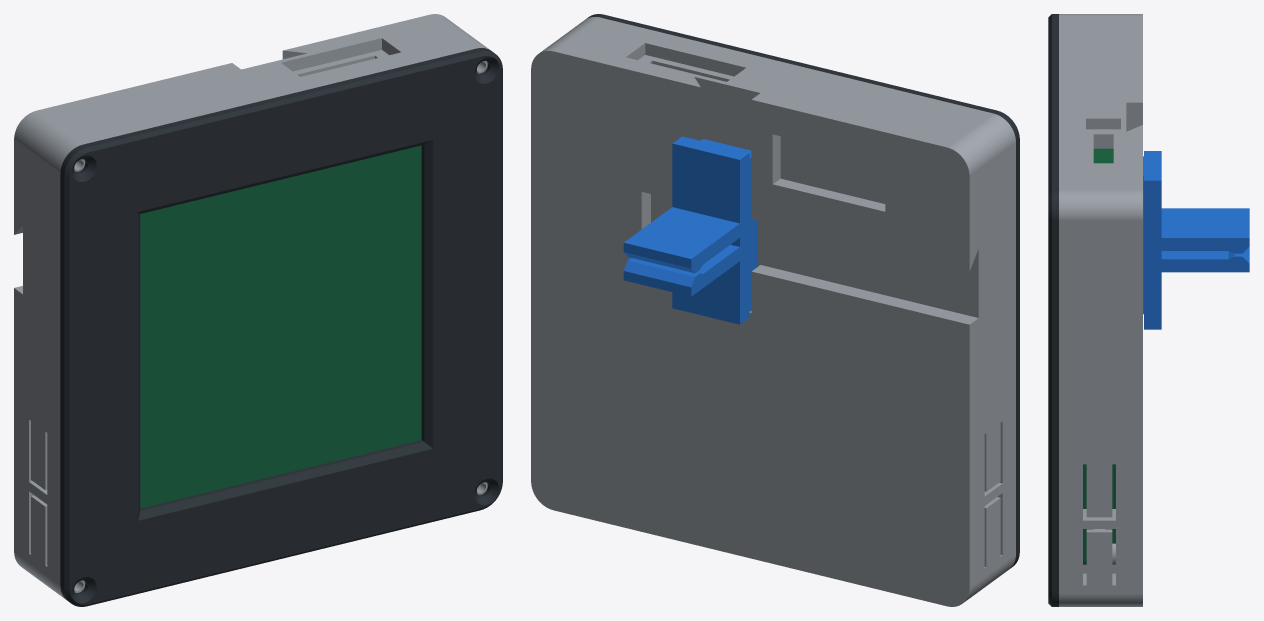
File: assembly.glb
3 views of the same model, side by side, from view 1: azimuth 30°, elevation 25°; view 2: azimuth 150°, elevation 25°; view 3: azimuth 270°, elevation 25° (orthographic). The views are drawn at different scales.
Visible parts, largest first — view 1: front_bezel, board_dummy, body; view 2: body, vent_clip, front_bezel; view 3: body, vent_clip, front_bezel, board_dummy.
Boxes of the visible parts, x1,y1,x2,y2 form: front_bezel: (60, 48, 502, 606); board_dummy: (140, 145, 421, 508); body: (14, 14, 489, 599); body: (531, 17, 1015, 606); vent_clip: (623, 136, 756, 324); front_bezel: (586, 14, 1019, 568); body: (1059, 14, 1142, 606); vent_clip: (1143, 151, 1249, 329); front_bezel: (1048, 14, 1058, 606); board_dummy: (1083, 148, 1115, 564).
Size of the model in its own units: 0.078 by 0.078 by 0.0343.
